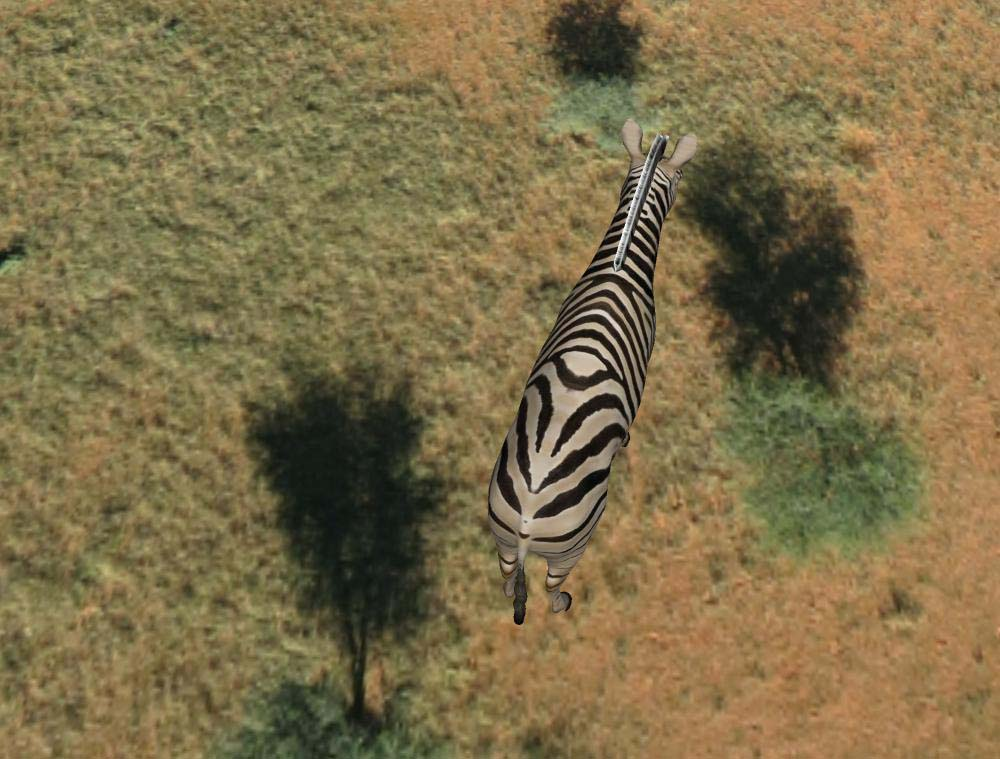zebra: (486, 119, 696, 624)
